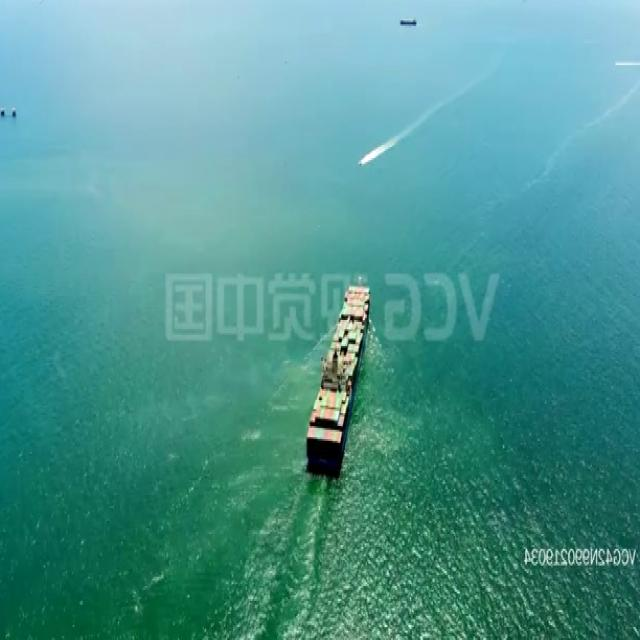cargoship: (304, 277, 374, 473)
